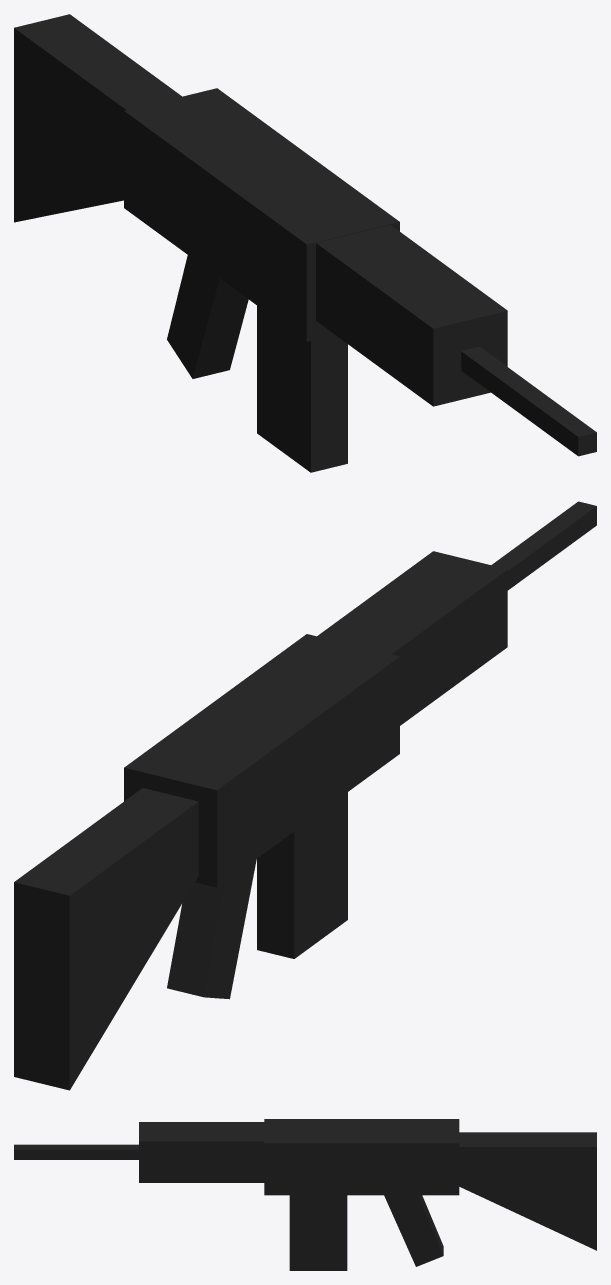
Rendered from gun.obj.
The picture shows the model from 3 angles, top to bottom: view 1: azimuth 30°, elevation 25°; view 2: azimuth 150°, elevation 25°; view 3: azimuth 270°, elevation 25°; orthographic projection. The views are drawn at different scales.
Visible parts, largest first — view 1: 立方体; view 2: 立方体; view 3: 立方体.
Part boxes in pixels (x1,y1,x2,y2): 立方体: (14,14,596,472); 立方体: (14,501,596,1090); 立方体: (14,1119,596,1270).
Size of the model in its own units: 0.5 by 1.3 by 5.08.
Materials: 1 (1 with a texture image).
